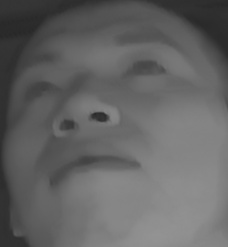eye: (119, 51, 169, 85), (19, 76, 60, 106)
mouth: (45, 145, 148, 194)
